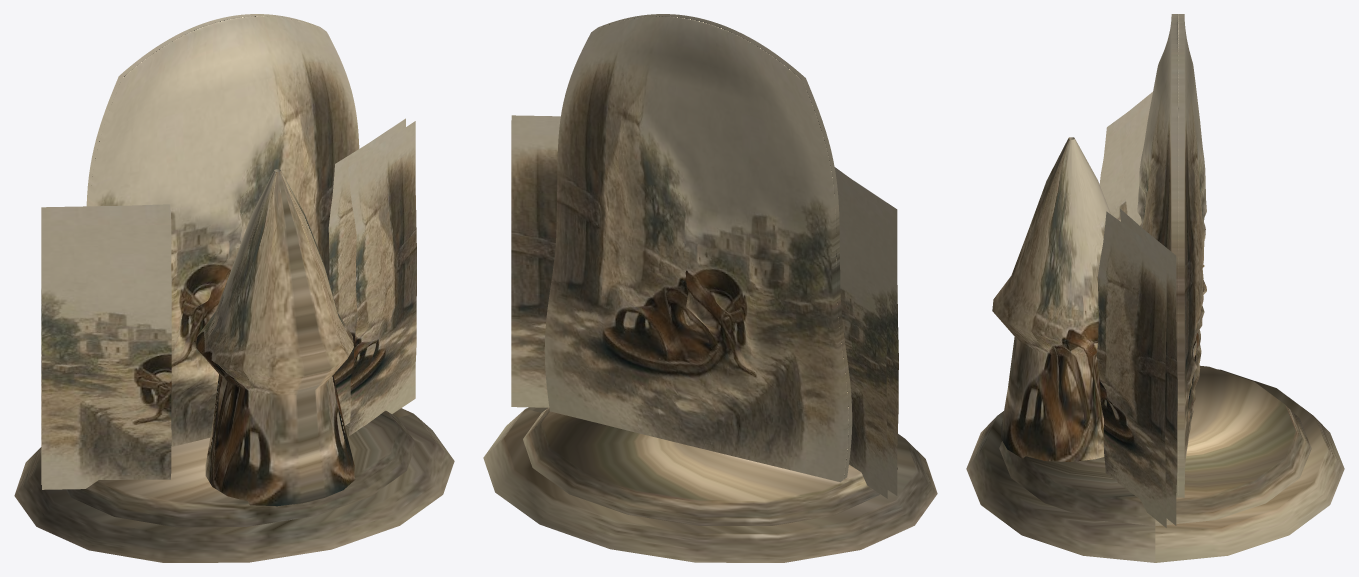
Rendered from ruth-kinsman-sandal.glb.
3 views of the same model, side by side, from view 1: azimuth 30°, elevation 25°; view 2: azimuth 150°, elevation 25°; view 3: azimuth 270°, elevation 25° (orthographic). The views are drawn at different scales.
Visible parts, largest first — view 1: PaintingSculptureMonument; view 2: PaintingSculptureMonument; view 3: PaintingSculptureMonument.
Boxes of the visible parts, x1,y1,x2,y2 form: PaintingSculptureMonument: (14, 14, 454, 562); PaintingSculptureMonument: (483, 14, 937, 562); PaintingSculptureMonument: (966, 14, 1344, 562).
Bounding box in the file's own units: 2.76 × 2.99 × 2.35.
Materials: 1 (1 with a texture image).
